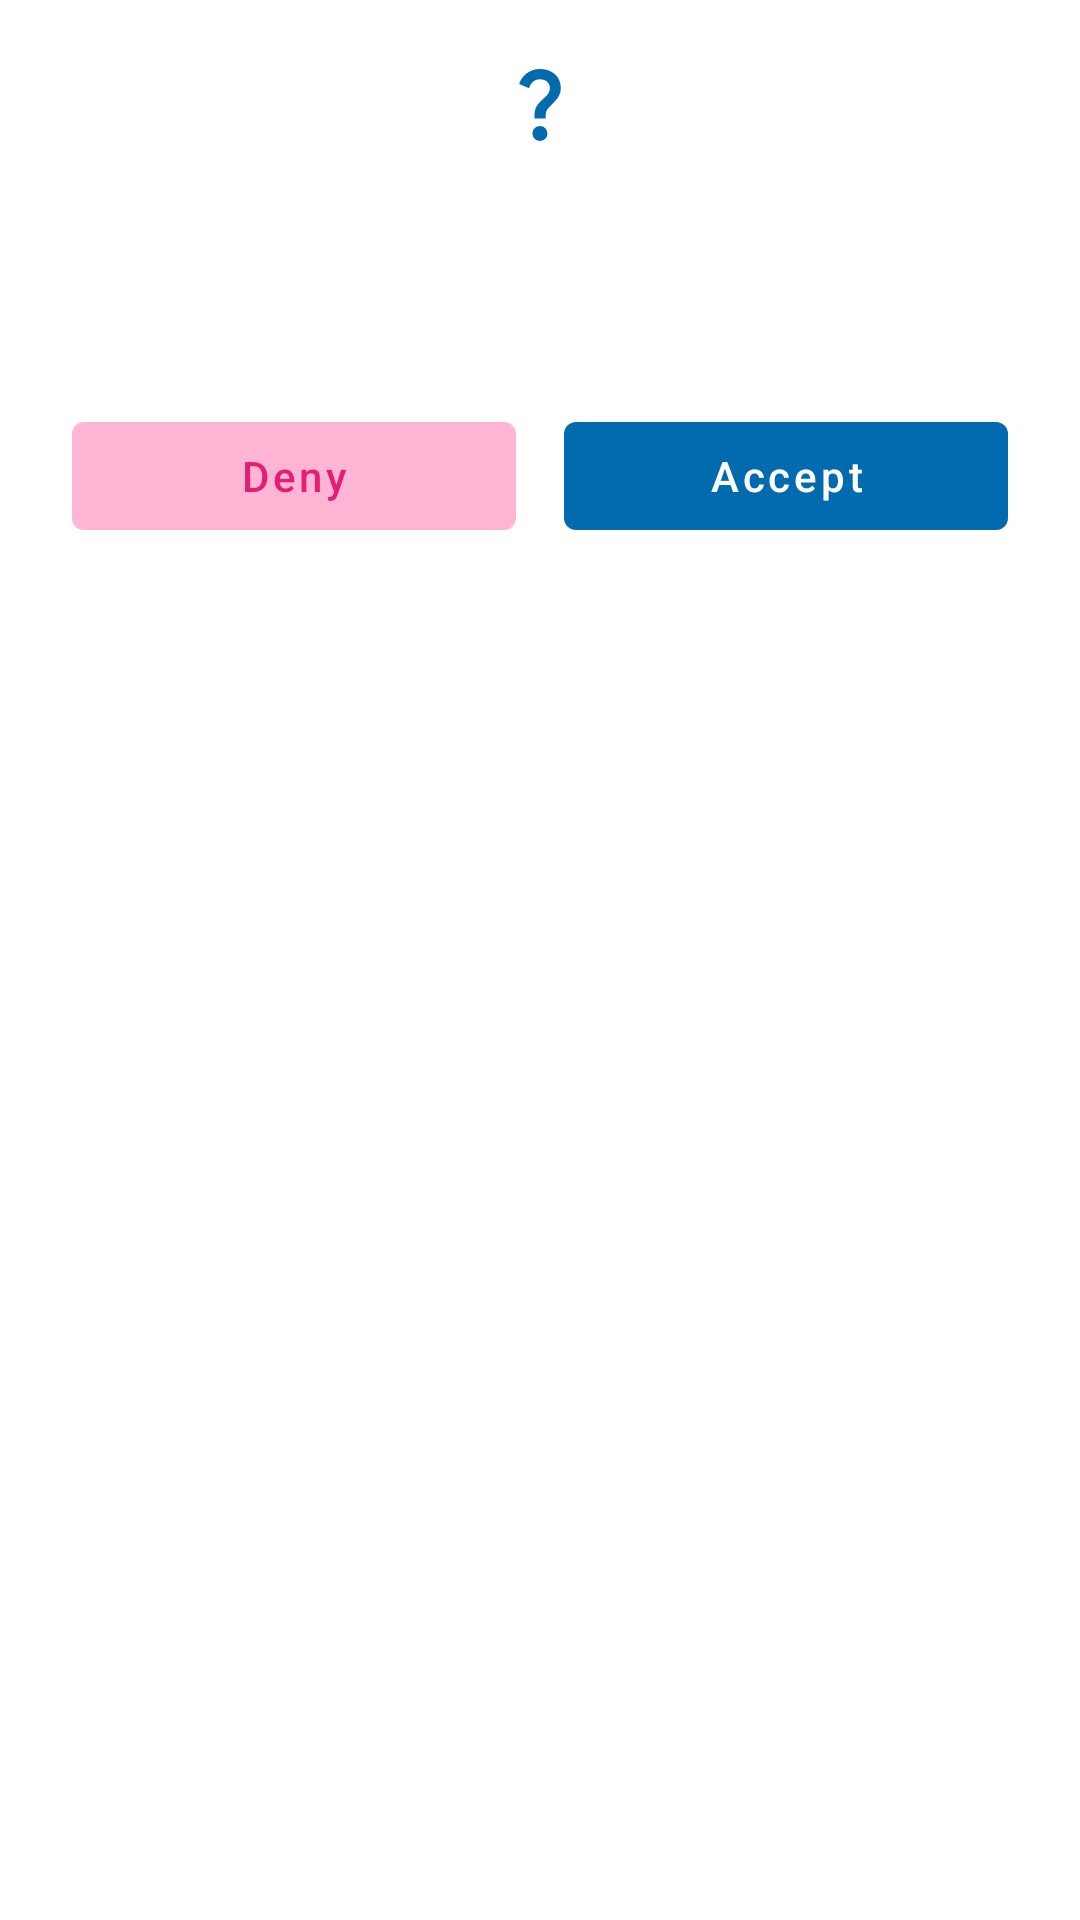

Screen size 1080 x 1920. Icon name, then its box in pixels as [x1=x1, y1=y1, x2=x2, y2=y2]:
question mark: [x1=519, y1=69, x2=561, y2=141]
